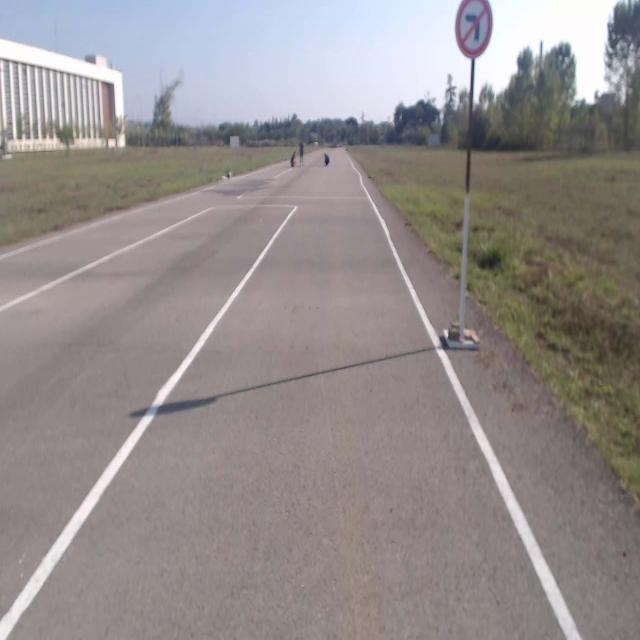soladonulmez: (455, 1, 493, 57)
